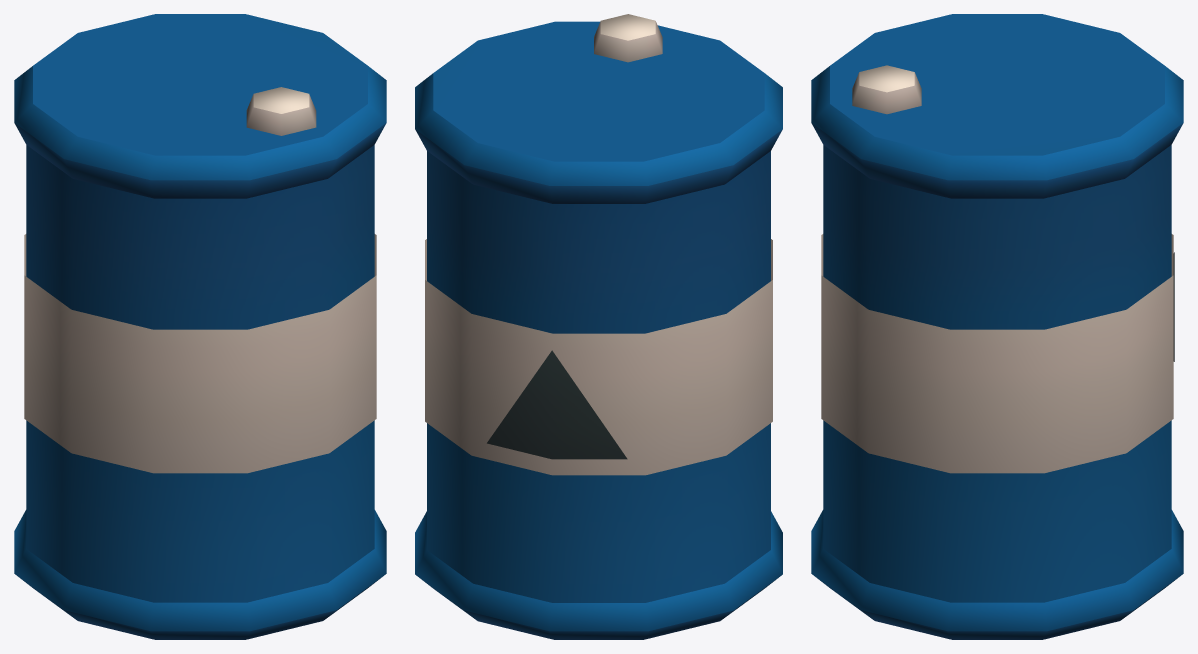
File: Barrel_1B.fbx
The picture shows the model from 3 angles, left to right: view 1: azimuth 30°, elevation 25°; view 2: azimuth 150°, elevation 25°; view 3: azimuth 270°, elevation 25°; orthographic projection.
Visible parts, largest first — view 1: Barrel_1B; view 2: Barrel_1B; view 3: Barrel_1B.
Boxes of the visible parts, bbox=[...] form: Barrel_1B: bbox=[14, 14, 386, 639]; Barrel_1B: bbox=[415, 14, 782, 639]; Barrel_1B: bbox=[811, 14, 1183, 639].
Bounding box in the file's own units: 83.69 × 125 × 83.69.
